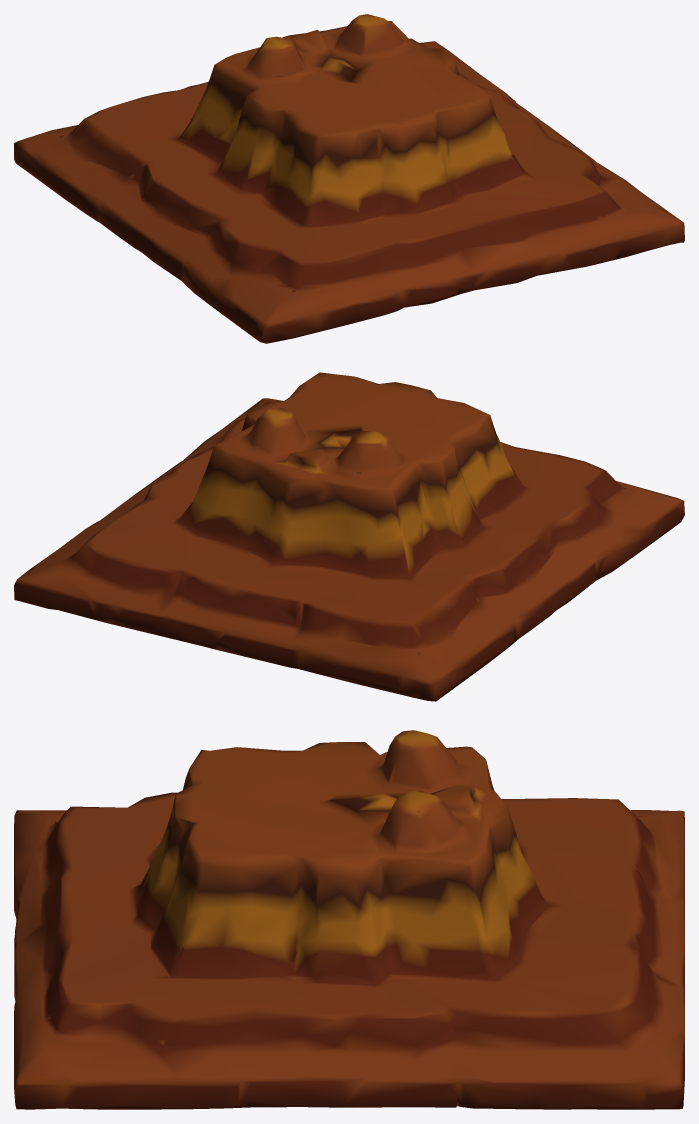
The model's file is gen3d-mesa-lod0.glb.
3 renders of one model, top to bottom at view 1: azimuth 30°, elevation 25°; view 2: azimuth 150°, elevation 25°; view 3: azimuth 270°, elevation 25°, orthographic. The views are drawn at different scales.
Visible parts, largest first — view 1: part_0; view 2: part_0; view 3: part_0.
Part boxes in pixels (bbox=[...]): part_0: bbox=[14, 14, 684, 343]; part_0: bbox=[14, 372, 684, 701]; part_0: bbox=[14, 730, 684, 1109].
Size of the model in its own units: 2.88 by 0.9983 by 2.97.
